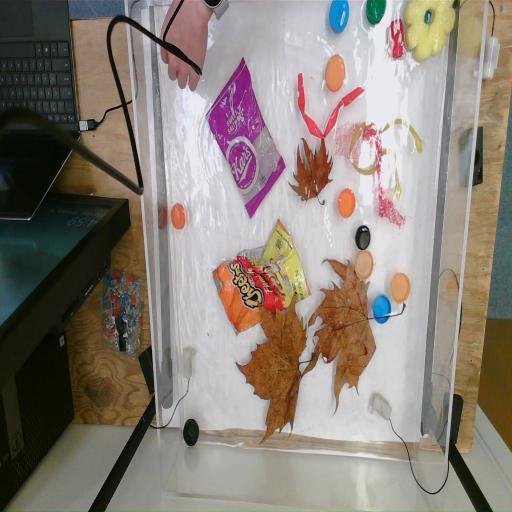Bottle Cap: (324, 52, 346, 92), (330, 0, 350, 34), (390, 272, 410, 304), (354, 250, 374, 281), (372, 295, 392, 325), (337, 187, 356, 218), (365, 0, 386, 25), (182, 418, 200, 446), (354, 224, 372, 250), (170, 202, 186, 230)
Cone Cap: (389, 19, 406, 63)
Leaf: (236, 294, 311, 438), (308, 254, 378, 406), (289, 132, 333, 210)
Netting: (364, 126, 406, 236), (334, 124, 374, 166)
Plastic Bag: (204, 57, 286, 217), (214, 218, 312, 330)
Plastic Strand: (296, 72, 364, 138), (349, 122, 424, 178)
Sponge: (404, 0, 456, 62)
